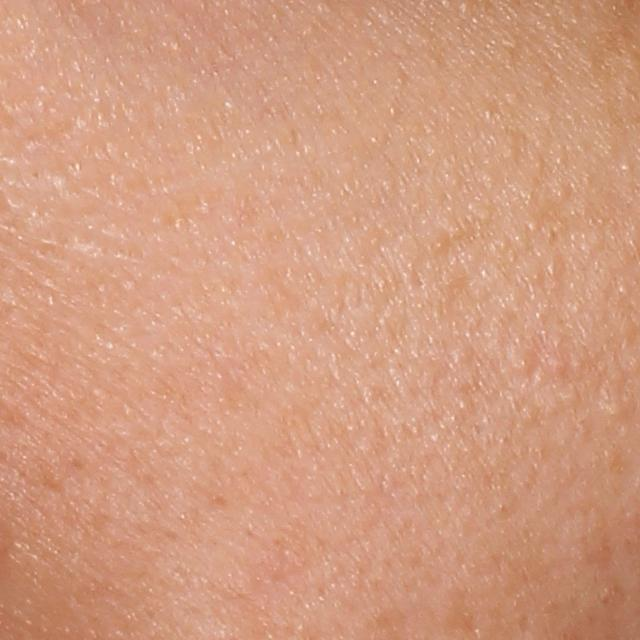comedo: (507, 349, 537, 378), (602, 398, 630, 425)
